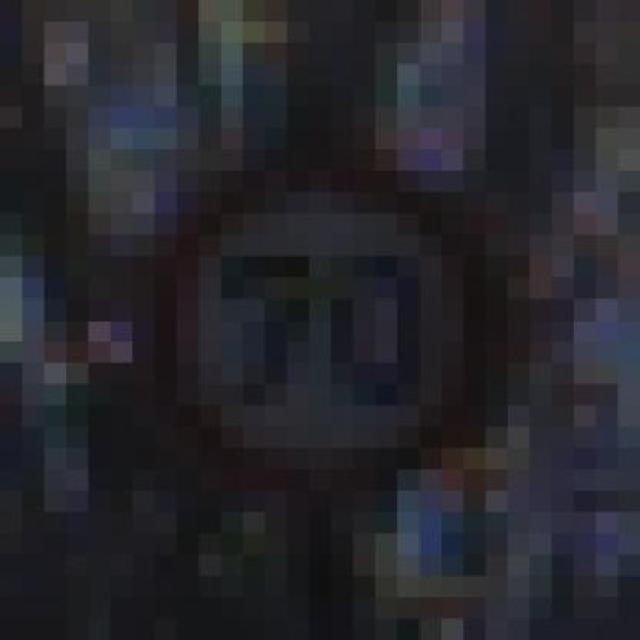forb_speed_over_70: (146, 154, 502, 485)
